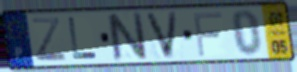0: (230, 8, 264, 58)
F: (191, 10, 224, 58)
L: (66, 16, 99, 61)
N: (104, 11, 150, 64)
V: (143, 10, 180, 61)
Z: (29, 16, 69, 63)
